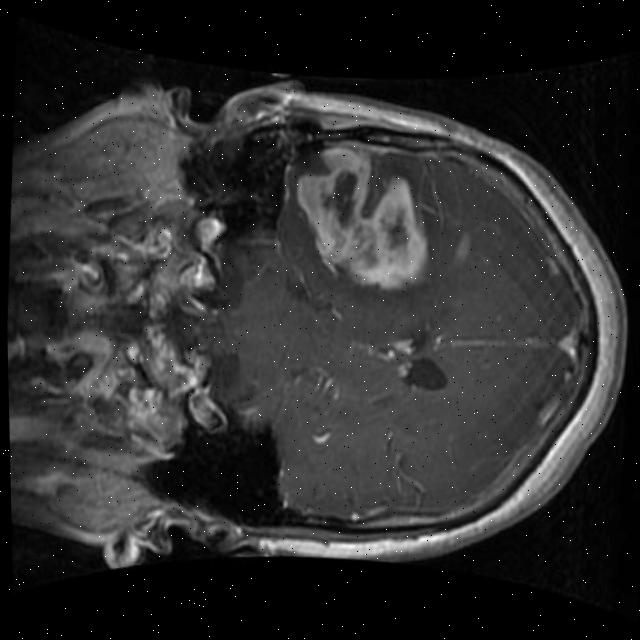Glioma: (290, 144, 437, 294)
